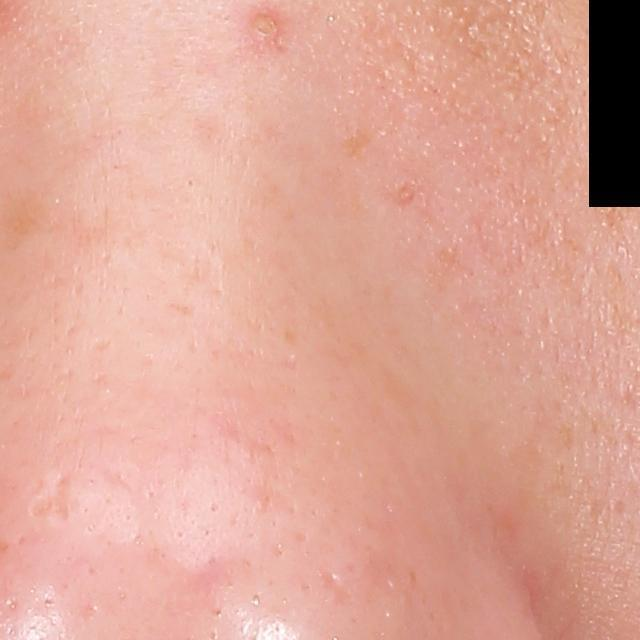atrophic_scar: (28, 470, 78, 528)
melasma: (590, 176, 640, 237), (339, 128, 373, 162)
pustule: (248, 5, 291, 48)
